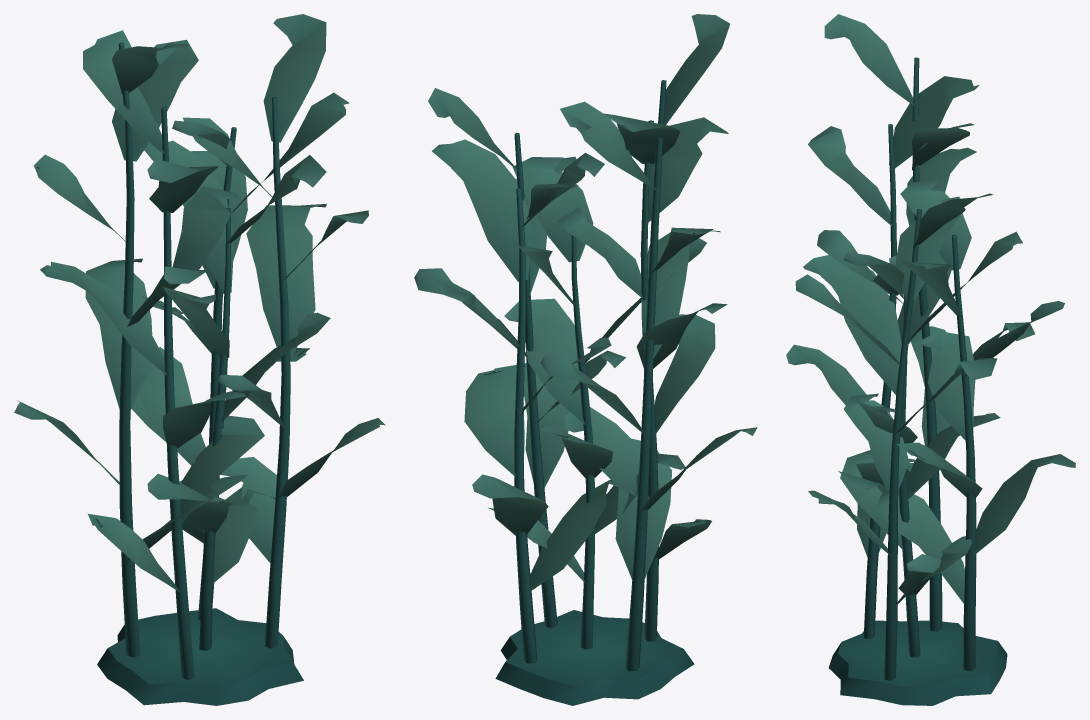
The model's file is alien_ribbon_kelp_patch_lowpoly_var_b_v1.glb.
3 views of the same model, side by side, from view 1: azimuth 30°, elevation 25°; view 2: azimuth 150°, elevation 25°; view 3: azimuth 270°, elevation 25° (orthographic). The views are drawn at different scales.
Visible parts, largest first — view 1: AlienRibbonKelpPatchB_Mesh; view 2: AlienRibbonKelpPatchB_Mesh; view 3: AlienRibbonKelpPatchB_Mesh.
Boxes of the visible parts, left/top/right/bottom form: AlienRibbonKelpPatchB_Mesh: left=14, top=14, right=385, bottom=705; AlienRibbonKelpPatchB_Mesh: left=414, top=14, right=757, bottom=705; AlienRibbonKelpPatchB_Mesh: left=786, top=14, right=1075, bottom=705.
Bounding box in the file's own units: 3.03 × 5.82 × 2.51.
